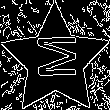M_W: (31, 37, 80, 84)
